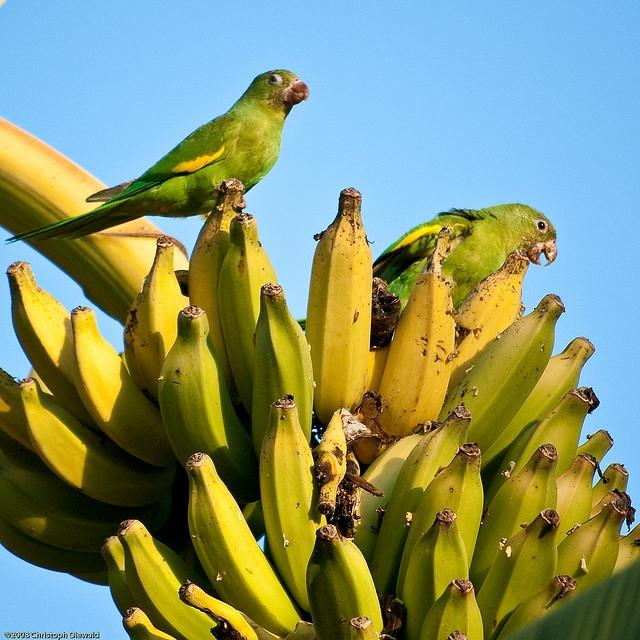banana: (2, 118, 188, 326), (352, 227, 457, 466), (7, 262, 132, 454), (186, 453, 310, 640), (369, 406, 472, 628), (0, 434, 177, 556), (18, 377, 178, 509), (438, 294, 566, 456), (158, 306, 261, 504), (480, 336, 596, 494), (71, 306, 178, 467), (306, 188, 374, 424), (260, 393, 328, 615), (484, 386, 600, 508), (396, 442, 484, 600), (469, 443, 558, 599), (188, 178, 246, 410), (117, 518, 223, 640), (444, 249, 530, 398), (217, 214, 280, 417), (252, 282, 314, 464), (353, 429, 433, 570), (476, 507, 560, 640), (315, 390, 397, 515), (131, 235, 185, 407), (306, 524, 384, 640), (402, 507, 469, 637), (555, 499, 628, 597), (0, 515, 108, 573), (178, 583, 282, 639), (496, 575, 577, 640), (555, 452, 610, 546), (420, 577, 484, 640), (101, 536, 138, 618), (1, 370, 36, 454), (122, 608, 176, 640), (364, 340, 392, 398), (592, 464, 628, 508), (612, 524, 640, 576), (574, 429, 614, 464), (242, 498, 266, 542), (346, 616, 380, 640)
